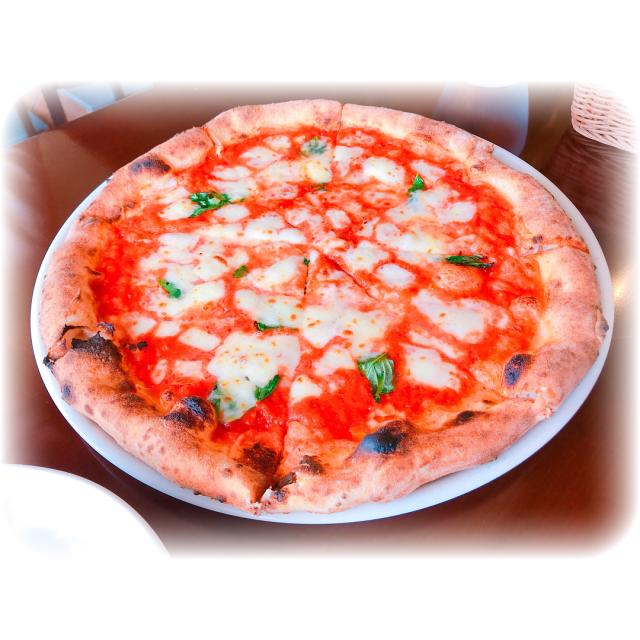basil: (358, 353, 396, 403), (189, 191, 231, 217), (254, 375, 281, 401), (445, 254, 494, 268), (300, 136, 326, 156), (158, 279, 182, 298), (407, 175, 425, 193), (209, 398, 221, 418), (232, 265, 248, 277), (314, 182, 329, 192), (212, 381, 218, 392), (304, 258, 310, 266)
pizza: (40, 100, 606, 513)
